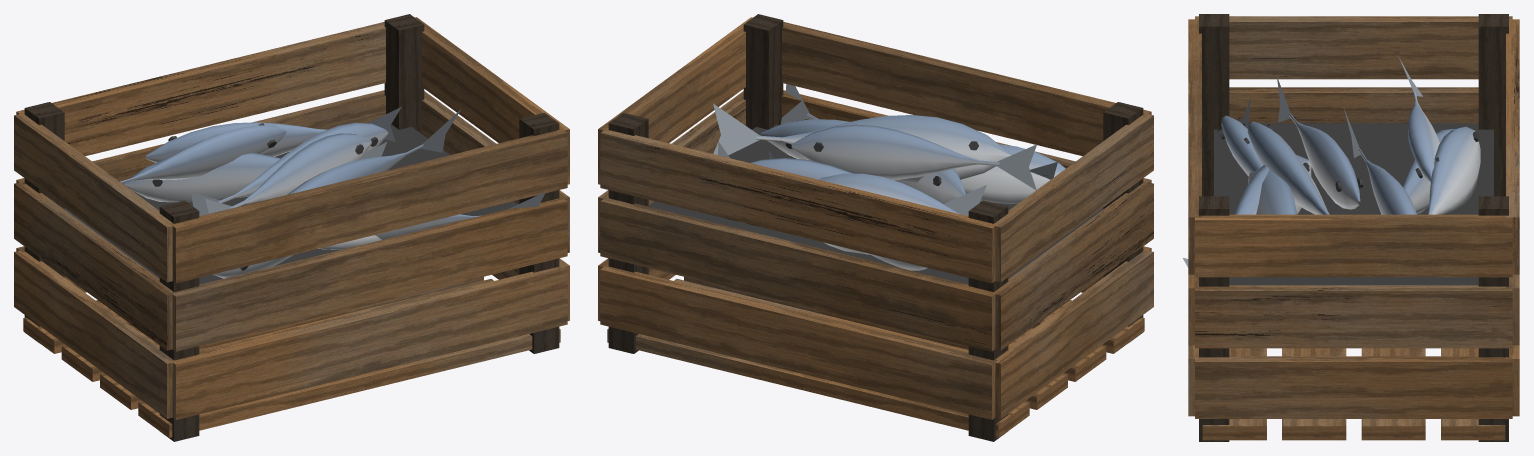
File: fish_crate.glb
3 renders of one model, left to right at view 1: azimuth 30°, elevation 25°; view 2: azimuth 150°, elevation 25°; view 3: azimuth 270°, elevation 25°, orthographic. The views are drawn at different scales.
Parts seen in each view (by area): view 1: fish_crate; view 2: fish_crate; view 3: fish_crate.
Part boxes in pixels (x1,y1,x2,y2): fish_crate: (14,14,569,441); fish_crate: (598,14,1153,441); fish_crate: (1183,14,1519,441).
Size of the model in its own units: 0.638 by 0.34 by 0.4458.
Materials: 4 (2 with a texture image).
